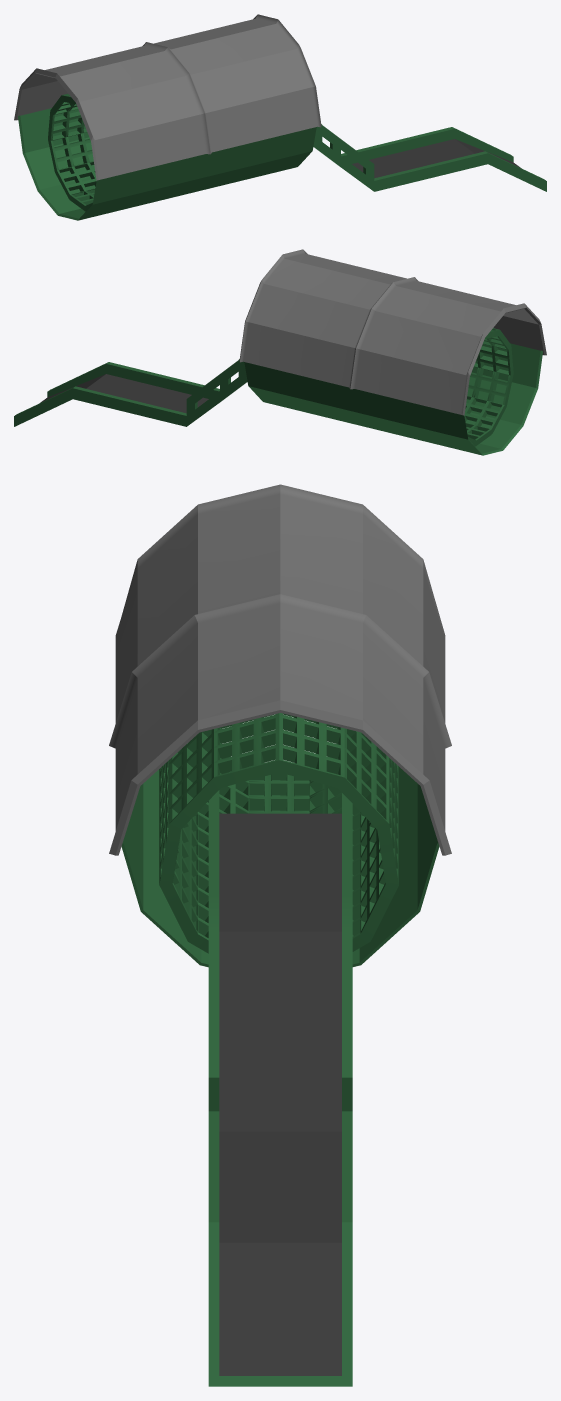
The model's file is conveercrugtrash.fbx.
3 renders of one model, top to bottom at view 1: azimuth 30°, elevation 25°; view 2: azimuth 150°, elevation 25°; view 3: azimuth 270°, elevation 25°, orthographic. The views are drawn at different scales.
Parts seen in each view (by area): view 1: conveerkrugl; view 2: conveerkrugl; view 3: conveerkrugl.
Boxes of the visible parts, x1,y1,x2,y2 form: conveerkrugl: [14, 14, 546, 220]; conveerkrugl: [14, 249, 546, 455]; conveerkrugl: [109, 484, 451, 1386].
Bounding box in the file's own units: 219 × 97.32 × 68.57.
Materials: 3 (3 with a texture image).
